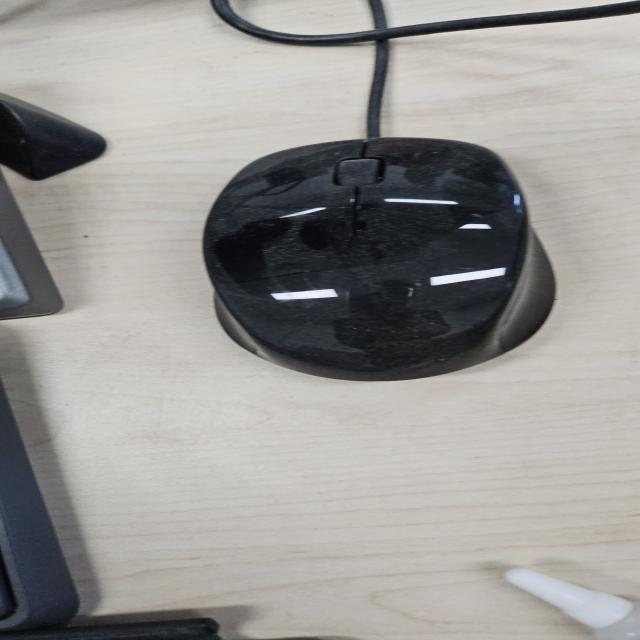Mouse: (198, 135, 560, 382)
